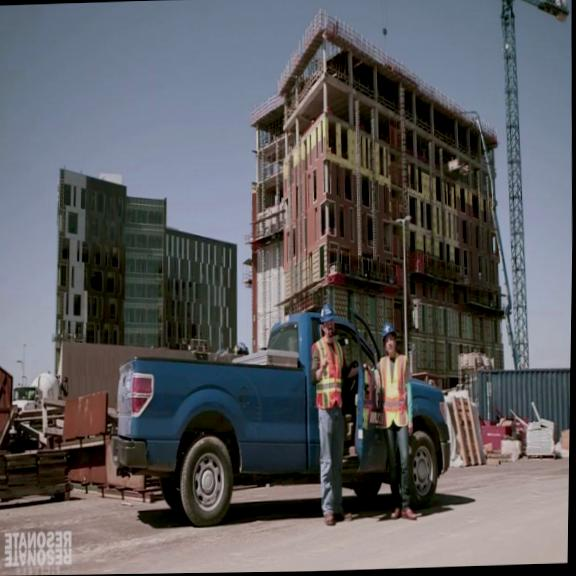safety_vest: (376, 350, 410, 430), (311, 336, 343, 409)
